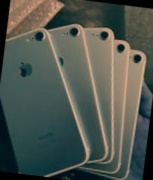iphone: (57, 33, 153, 180)
